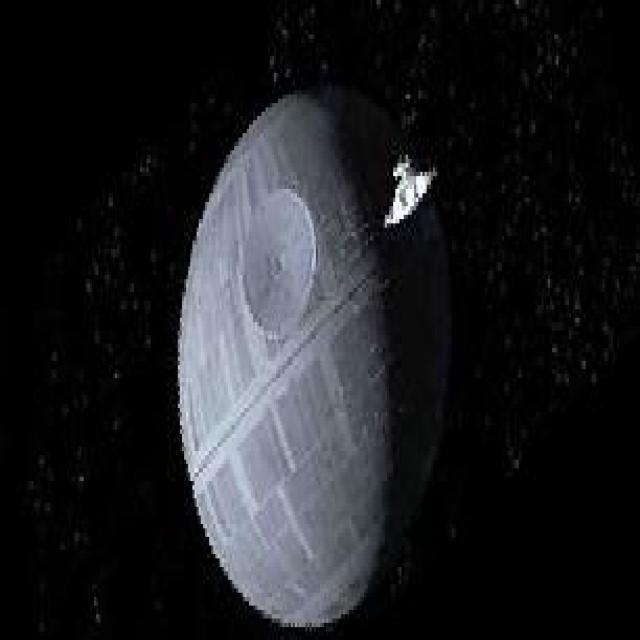Death Star: (172, 73, 448, 623)
